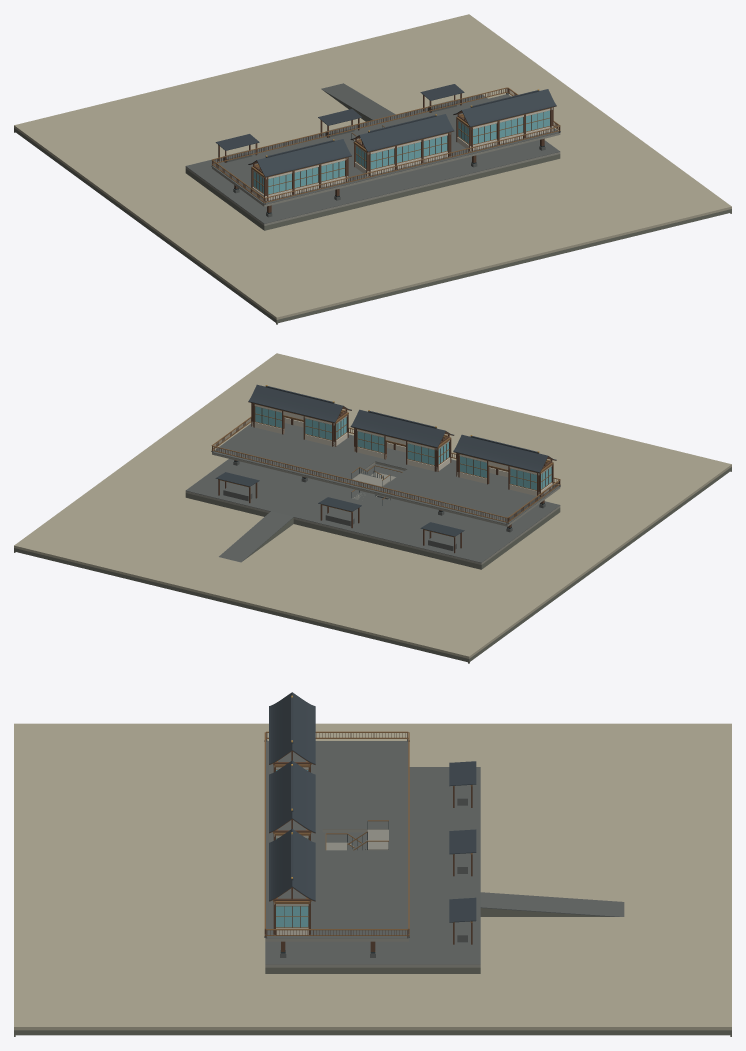
The picture shows the model from 3 angles, top to bottom: view 1: azimuth 30°, elevation 25°; view 2: azimuth 150°, elevation 25°; view 3: azimuth 270°, elevation 25°; orthographic projection. The views are drawn at different scales.
Parts seen in each view (by area): view 1: 连续岩土实体与最小原生岩块, 石铺面与混凝土承板 (×2), 连续飞檐与梁椽 (×3), 分格窗洞与木石墙 (×3), 廊边木栏与实际竖梃 (×2), 独立作者街摊台与木棚 (×3), 52m市集实体路基和独立入地承脚, 真实实体路基与连续坡面; view 2: 连续岩土实体与最小原生岩块, 石铺面与混凝土承板 (×2), 连续飞檐与梁椽 (×3), 中轴实开门墙 (×3), 独立作者街摊台与木棚 (×3), 52m市集实体路基和独立入地承脚, 真实实体路基与连续坡面, 廊边木栏与实际竖梃, 双跑连续梁与实体踏步; view 3: 连续岩土实体与最小原生岩块, 石铺面与混凝土承板 (×2), 连续飞檐与梁椽 (×3), 独立作者街摊台与木棚 (×3), 真实实体路基与连续坡面, 52m市集实体路基和独立入地承脚, 分格窗洞与木石墙, 双跑连续梁与实体踏步, 廊边木栏与实际竖梃.
Part boxes in pixels (x1,y1,x2,y2): 连续岩土实体与最小原生岩块: (14,14,731,324); 石铺面与混凝土承板 (×2): (185,94,560,225); 连续飞檐与梁椽 (×3): (248,89,556,177); 分格窗洞与木石墙 (×3): (267,108,551,200); 廊边木栏与实际竖梃 (×2): (212,87,560,204); 独立作者街摊台与木棚 (×3): (215,84,464,162); 52m市集实体路基和独立入地承脚: (185,154,560,230); 真实实体路基与连续坡面: (321,83,395,121); 连续岩土实体与最小原生岩块: (14,353,731,663); 石铺面与混凝土承板 (×2): (185,423,560,564); 连续飞檐与梁椽 (×3): (248,384,556,473); 中轴实开门墙 (×3): (253,403,538,496); 独立作者街摊台与木棚 (×3): (215,472,464,553); 52m市集实体路基和独立入地承脚: (185,493,560,569); 真实实体路基与连续坡面: (219,511,293,562); 廊边木栏与实际竖梃: (212,445,507,524); 双跑连续梁与实体踏步: (351,465,402,505); 连续岩土实体与最小原生岩块: (14,723,731,1036); 石铺面与混凝土承板 (×2): (265,741,480,967); 连续飞檐与梁椽 (×3): (269,692,315,901); 独立作者街摊台与木棚 (×3): (449,761,476,944); 真实实体路基与连续坡面: (480,892,624,916); 52m市集实体路基和独立入地承脚: (265,967,480,973); 分格窗洞与木石墙: (274,901,310,934); 双跑连续梁与实体踏步: (325,820,388,850); 廊边木栏与实际竖梃: (266,929,408,938).
Bounding box in the file's own units: 80 × 12.1 × 80.
14 materials, 14 textured.
